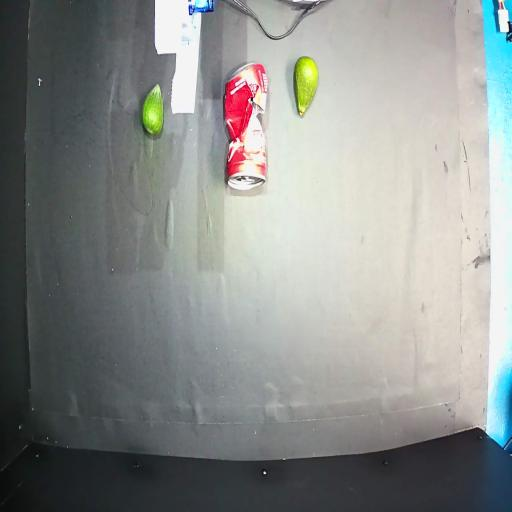higo: (293, 56, 318, 116), (143, 86, 163, 134)
lata_defectuoso: (224, 63, 268, 190)
